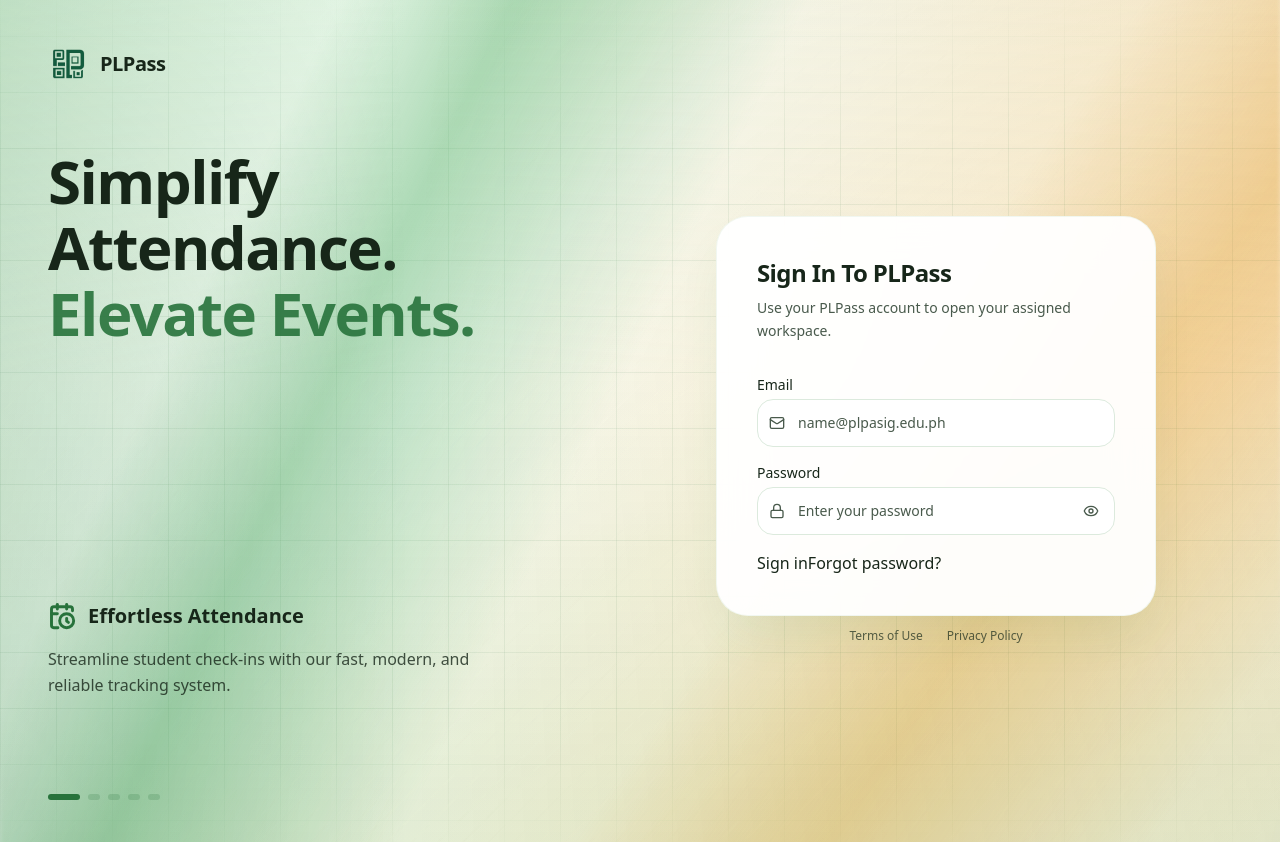
Test: mock authentication flow › logs in as Organizer One and redirects by role
Type "organizer.one@plpass.test" into the field labelled "Email" at [936, 423], box [757, 399, 1115, 447]
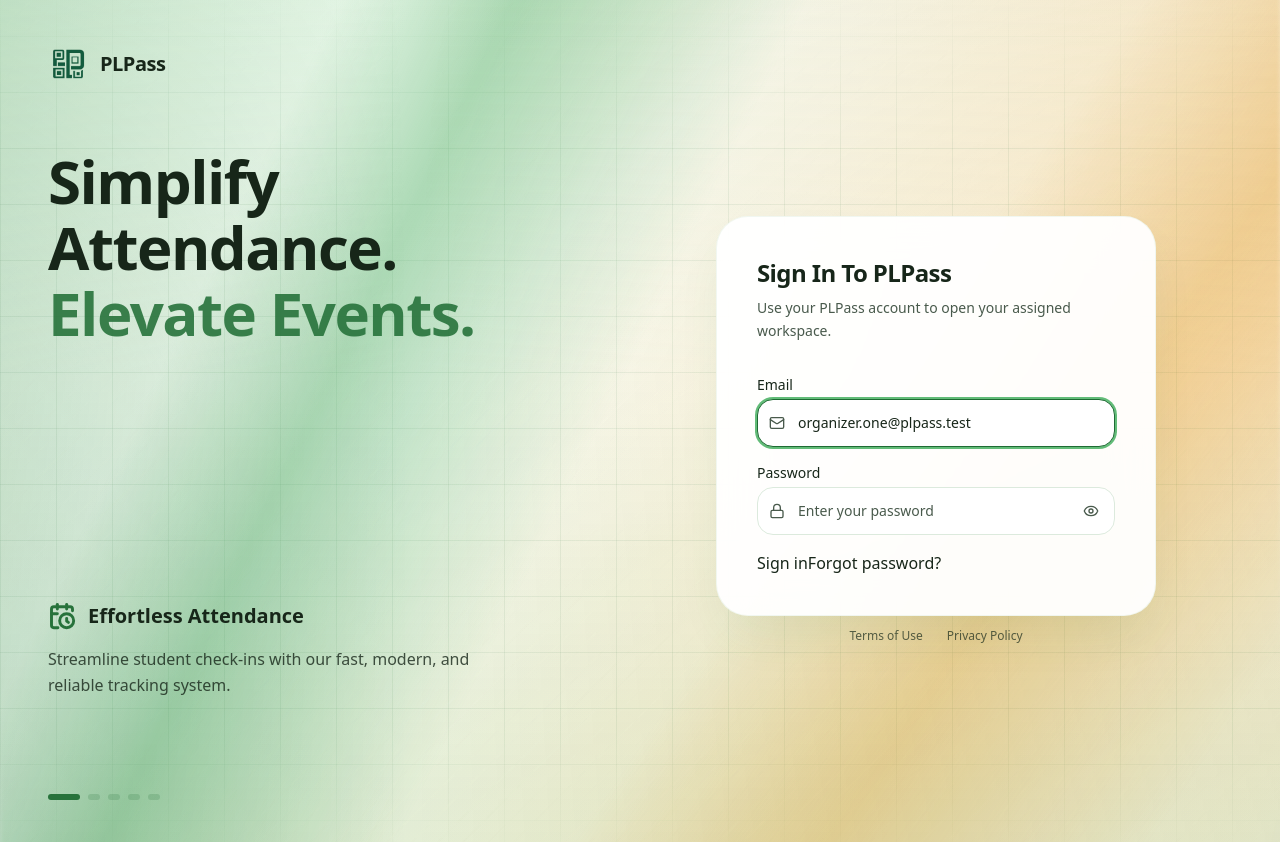
Type "password123" into the password field labelled "Password" at [936, 511], box [757, 487, 1115, 535]
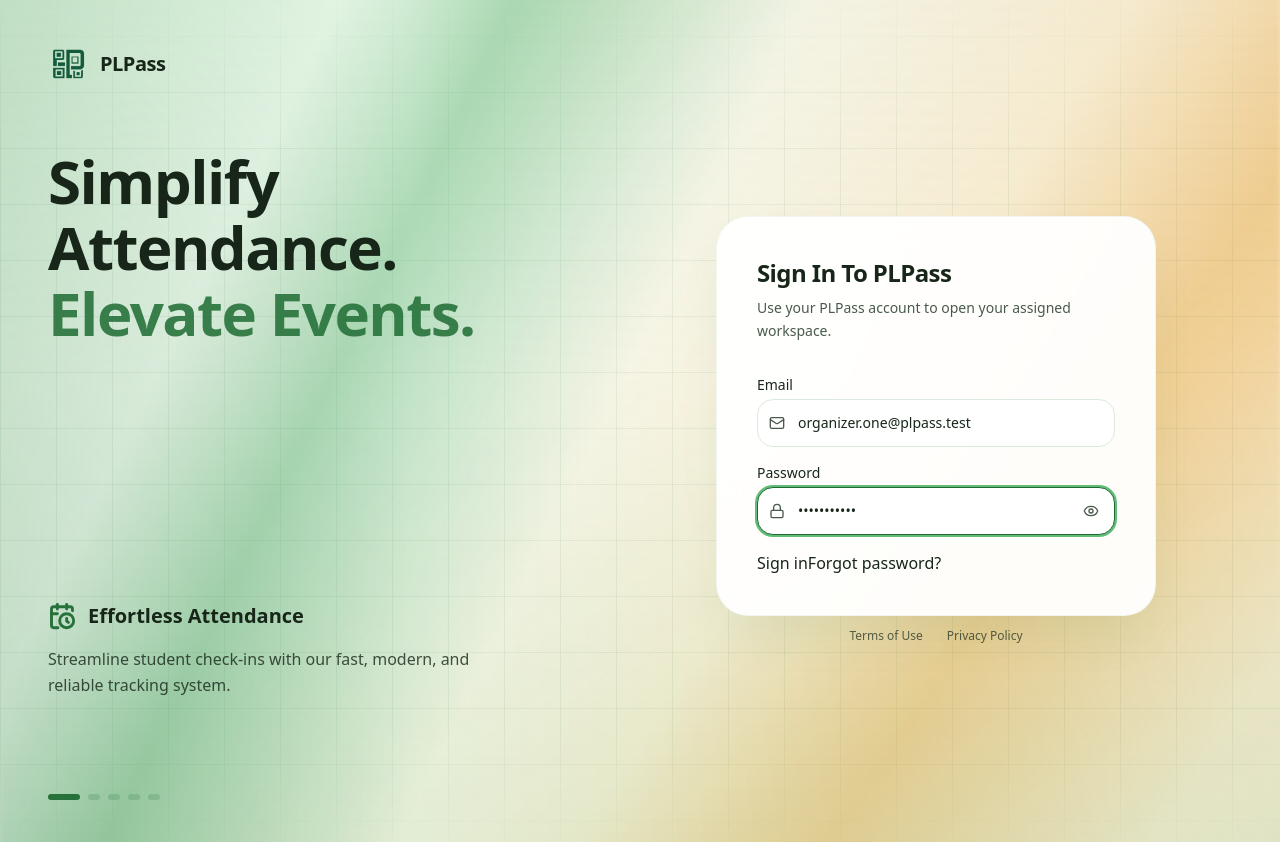
Click the button "Sign in" at [782, 563], box [757, 551, 808, 575]
(page scrolled)
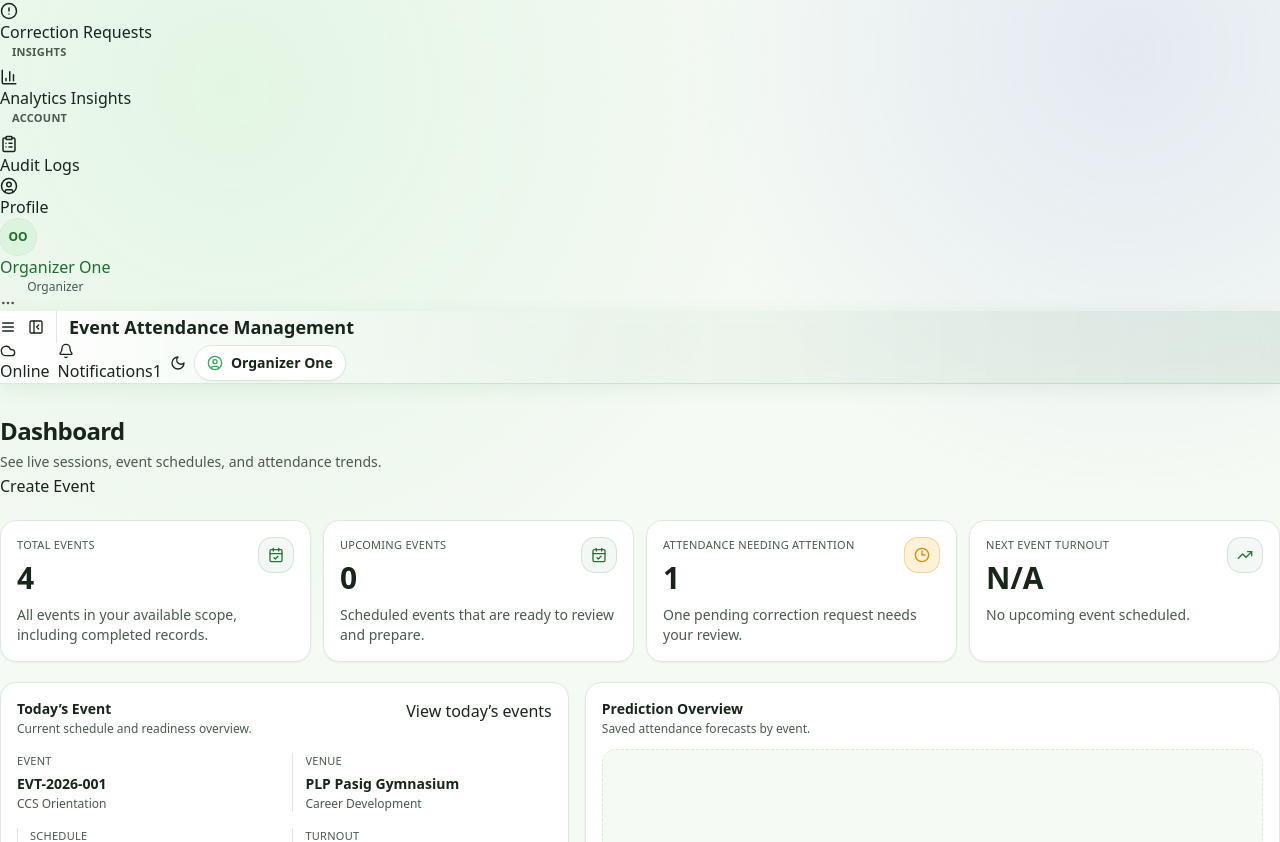
expect the heading "Dashboard" is shown: met, box [0, 414, 125, 446]
